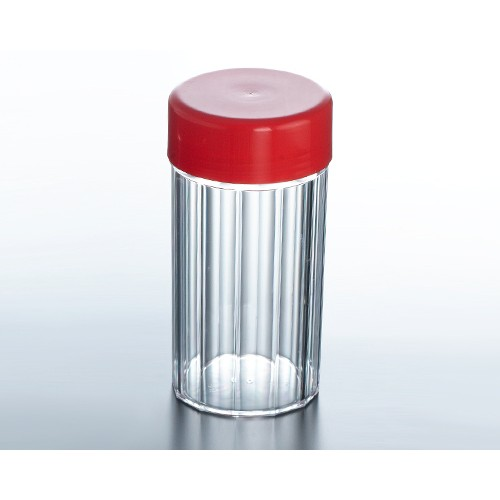medicinejar: (162, 63, 330, 425)
